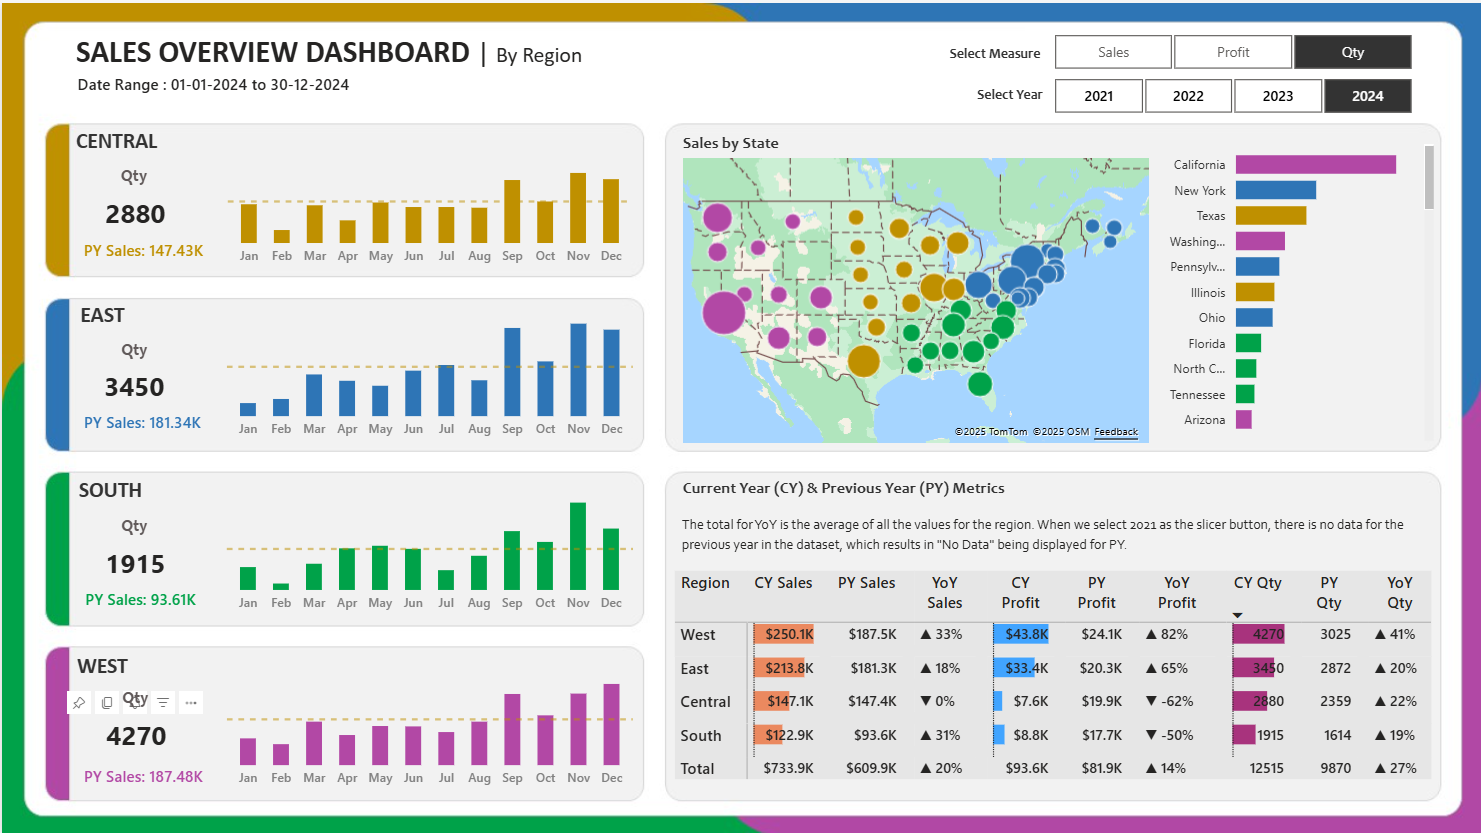

Layout of this report page (visuals, bound fields, positions):
{"tool":"powerbi","page":{"name":"Sales Overview Report","canvas":[1280,720],"ordinal":0},"visuals":[{"type":"clusteredColumnChart","fields":{"Y":["Orders.Total Qty"],"Category":["Calendar Table.Month"]},"box":[190,103.6,360,132.7],"z":0},{"type":"textbox","box":[48.6,102.1,101.2,33.1],"z":1000},{"type":"card","fields":{"Values":["Orders.Total Qty"]},"box":[56.7,164.4,116.7,36.7],"z":2000},{"type":"slicer","fields":{"Values":["Parameter.Parameter"]},"box":[884.5,20.9,358.2,42.7],"z":3000},{"type":"card","fields":{"Values":["Orders.Title"]},"box":[81.1,136.7,65.6,25.6],"z":4000},{"type":"clusteredColumnChart","fields":{"Y":["Orders.Total Qty"],"Category":["Calendar Table.Month"]},"box":[188.9,254.4,361.4,132],"z":5000},{"type":"textbox","box":[36.2,252.7,100.9,32.8],"z":6000},{"type":"card","fields":{"Values":["Orders.Total Qty"]},"box":[56.3,314.5,116.4,36.2],"z":7000},{"type":"card","fields":{"Values":["Orders.Title"]},"box":[82.2,287.8,64.4,26.7],"z":8000},{"type":"clusteredColumnChart","fields":{"Y":["Orders.Total Qty"],"Category":["Calendar Table.Month"]},"box":[189.1,404.5,360.9,131.8],"z":9000},{"type":"textbox","box":[43.1,403.7,100.9,32.8],"z":10000},{"type":"card","fields":{"Values":["Orders.Total Qty"]},"box":[56.7,466.7,116.7,36.7],"z":11000},{"type":"card","fields":{"Values":["Orders.Title"]},"box":[82.2,438.9,64.4,25.6],"z":12000},{"type":"clusteredColumnChart","fields":{"Y":["Orders.Total Qty"],"Category":["Calendar Table.Month"]},"box":[188.9,555.5,361.4,132],"z":13000},{"type":"textbox","box":[36.2,555.5,100.9,32.8],"z":14000},{"type":"card","fields":{"Values":["Orders.Total Qty"]},"box":[57.5,615.8,116.7,36.7],"z":15000},{"type":"card","fields":{"Values":["Orders.Title"]},"box":[83.3,588.9,64.4,26.7],"z":16000},{"type":"textbox","box":[26.1,20.6,513.5,46.7],"z":17000},{"type":"azureMap","title":"Sales by State","fields":{"Size":["Orders.Total Qty"],"Category":["Orders.State/Province"],"Series":["Orders.Region"]},"box":[583.3,112.5,413.3,273.3],"z":18000},{"type":"barChart","fields":{"Y":["Orders.Total Qty"],"Category":["Orders.State/Province"],"Series":["Orders.Region"]},"box":[990.9,110,251.8,273.6],"z":19000},{"type":"pivotTable","fields":{"Rows":["Orders.Region"],"Values":["Orders.CY Sales","Orders.PY Sales","Orders.YoY Sales","Orders.CY Profit","Orders.PY Profit","Orders.YoY Profit","Orders.CY Qty","Orders.PY Qty","Orders.YoY Qty"]},"box":[576.2,485.6,666.7,197.5],"z":20000},{"type":"slicer","fields":{"Values":["Calendar Table.Year"]},"box":[884.5,59.1,358.2,42.7],"z":21000},{"type":"card","fields":{"Values":["Orders.SalesPreviousYear"]},"box":[51.7,199.2,140.8,35],"z":22000},{"type":"card","fields":{"Values":["Orders.SalesPreviousYear"]},"box":[50.8,346.7,140.8,35.8],"z":23000},{"type":"card","fields":{"Values":["Orders.SalesPreviousYear"]},"box":[48.9,500,141.1,35.6],"z":24000},{"type":"card","fields":{"Values":["Orders.SalesPreviousYear"]},"box":[51.7,652.5,140.8,35.8],"z":25000},{"type":"textbox","box":[583.6,404.5,337.3,34.5],"z":26000},{"type":"card","fields":{"Values":["Orders.Date Range"]},"box":[33.6,55.5,298.2,34.5],"z":27000},{"type":"textbox","box":[806.4,28.2,103.6,30],"z":28000},{"type":"textbox","box":[819.1,63.6,103.6,30],"z":29000},{"type":"textbox","box":[582.7,435.5,643.6,51.8],"z":30000}]}

Visuals, with their boxes in screenshot pixels (x1, y1, x2, y2), scaled from the page's 1280x720 canvas onto the 1481x833 screenshot:
clusteredColumnChart - Orders.Total Qty x Calendar Table.Month: (220, 120, 636, 273)
textbox: (56, 118, 173, 156)
card - Orders.Total Qty: (66, 190, 201, 233)
slicer - Parameter.Parameter: (1023, 24, 1438, 74)
card - Orders.Title: (94, 158, 170, 188)
clusteredColumnChart - Orders.Total Qty x Calendar Table.Month: (219, 294, 637, 447)
textbox: (42, 292, 159, 330)
card - Orders.Total Qty: (65, 364, 200, 406)
card - Orders.Title: (95, 333, 170, 364)
clusteredColumnChart - Orders.Total Qty x Calendar Table.Month: (219, 468, 636, 620)
textbox: (50, 467, 167, 505)
card - Orders.Total Qty: (66, 540, 201, 582)
card - Orders.Title: (95, 508, 170, 537)
clusteredColumnChart - Orders.Total Qty x Calendar Table.Month: (219, 643, 637, 795)
textbox: (42, 643, 159, 681)
card - Orders.Total Qty: (67, 712, 202, 755)
card - Orders.Title: (96, 681, 171, 712)
textbox: (30, 24, 624, 78)
"Sales by State" azureMap: (675, 130, 1153, 446)
barChart - Orders.Total Qty x Orders.State/Province: (1147, 127, 1438, 444)
pivotTable - Orders.Region x Orders.CY Sales: (667, 562, 1438, 790)
slicer - Calendar Table.Year: (1023, 68, 1438, 118)
card - Orders.SalesPreviousYear: (60, 230, 223, 271)
card - Orders.SalesPreviousYear: (59, 401, 222, 443)
card - Orders.SalesPreviousYear: (57, 578, 220, 620)
card - Orders.SalesPreviousYear: (60, 755, 223, 796)
textbox: (675, 468, 1066, 508)
card - Orders.Date Range: (39, 64, 384, 104)
textbox: (933, 33, 1053, 67)
textbox: (948, 74, 1068, 108)
textbox: (674, 504, 1419, 564)
